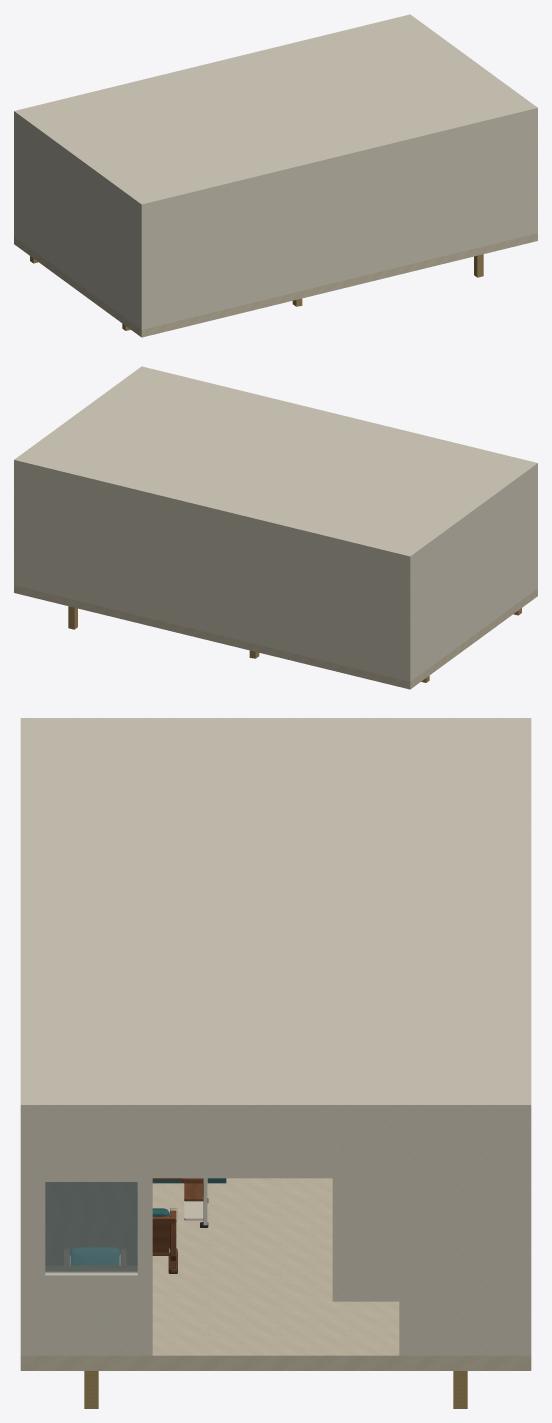
File: StarAtlasSpecialty_551.glb
3 renders of one model, top to bottom at view 1: azimuth 30°, elevation 25°; view 2: azimuth 150°, elevation 25°; view 3: azimuth 270°, elevation 25°, orthographic. The views are drawn at different scales.
Parts seen in each view (by area): view 1: SA551_Ceiling, SA551_NorthSide, SA551_OpaqueRearBoundary, SA551_RoomFloor; view 2: SA551_Ceiling, SA551_SouthSide, SA551_OpaqueRearBoundary, SA551_RoomFloor; view 3: SA551_Ceiling, SA551_RoomFloor, SA551_EntryShoulderSouth, SA551_EntryHeader, SA551_StreetWindowLower, SA551_ScreenedStreetGlass, SA551_WashEntrySide, SA551_StreetWindowUpper, SA551_EntryPrivacyDogleg, SA551_NorthSide, SA551_SouthSide, SA551_StreetWindowOuterPier (+2 smaller).
Boxes of the visible parts, x1,y1,x2,y2 form: SA551_Ceiling: (14,14,537,209); SA551_NorthSide: (139,113,537,329); SA551_OpaqueRearBoundary: (16,118,139,327); SA551_RoomFloor: (14,233,537,337); SA551_Ceiling: (14,366,537,561); SA551_SouthSide: (14,465,412,681); SA551_OpaqueRearBoundary: (412,470,535,679); SA551_RoomFloor: (14,585,537,689); SA551_Ceiling: (20,718,531,1115); SA551_RoomFloor: (20,1178,531,1370); SA551_EntryShoulderSouth: (399,1115,522,1355); SA551_EntryHeader: (148,1115,403,1178); SA551_StreetWindowLower: (29,1272,152,1355); SA551_ScreenedStreetGlass: (45,1182,137,1272); SA551_WashEntrySide: (332,1178,399,1301); SA551_StreetWindowUpper: (29,1115,152,1181); SA551_EntryPrivacyDogleg: (45,1182,137,1265); SA551_NorthSide: (20,1115,28,1355); SA551_SouthSide: (523,1115,531,1355); SA551_StreetWindowOuterPier: (29,1182,45,1275).
Bounding box in the file's own units: 12.9 × 5.31 × 7.2.
Materials: 79 (49 with a texture image).
